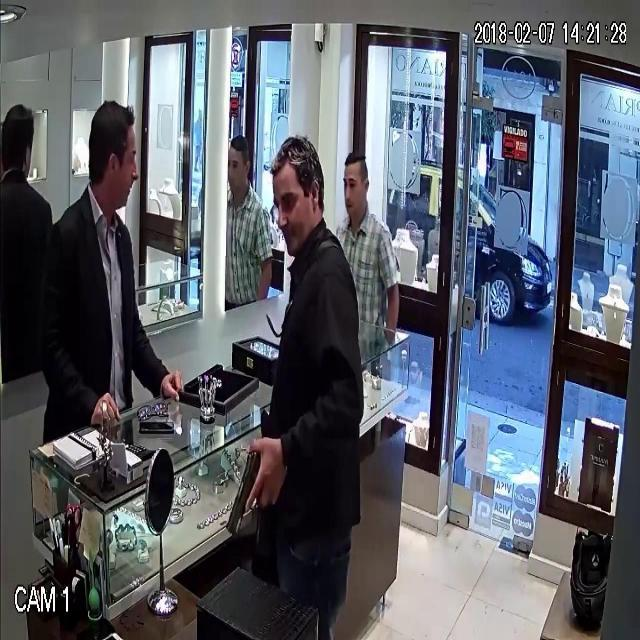weapon: (220, 426, 280, 546)
